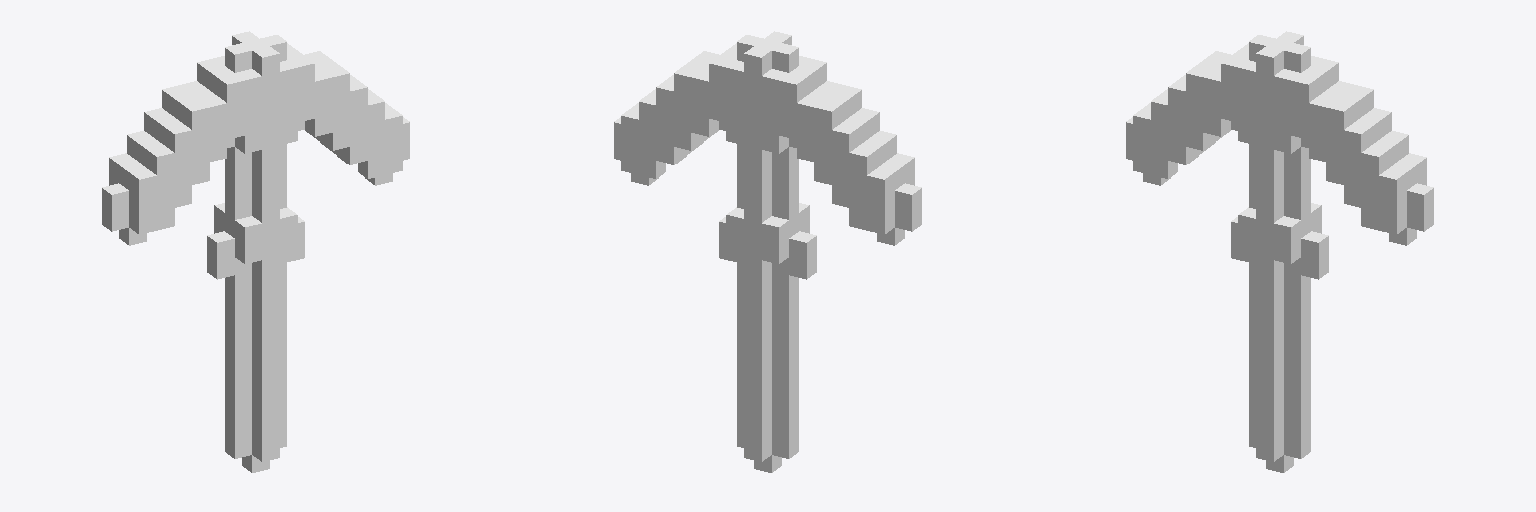
The model's file is tool_pickaxe.obj.
The picture shows the model from 3 angles: view 1: azimuth 30°, elevation 25°; view 2: azimuth 150°, elevation 25°; view 3: azimuth 330°, elevation 25°; orthographic projection.
Visible parts, largest first — view 1: object 1; view 2: object 1; view 3: object 1.
Part boxes in pixels (x1,y1,x2,y2): object 1: (102, 31, 409, 472); object 1: (614, 31, 921, 472); object 1: (1126, 31, 1433, 472).
Bounding box in the file's own units: 1.7 × 2.3 × 0.3.